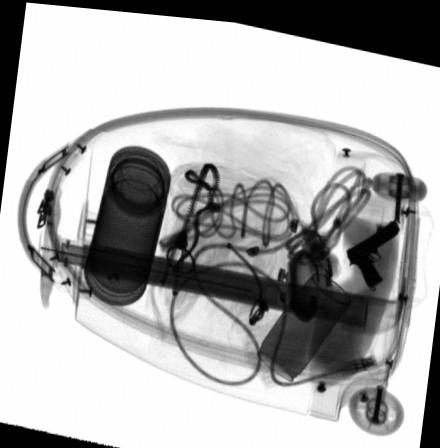Gun: (345, 210, 399, 281)
